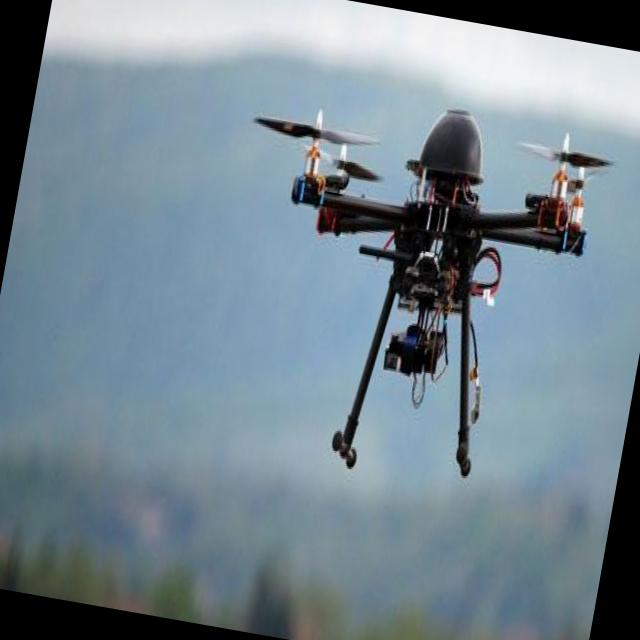drone: (198, 71, 622, 505)
